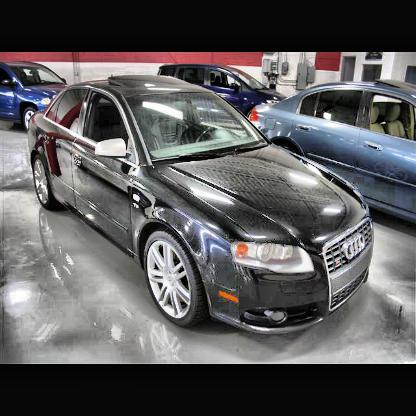Audi S4 Sedan 2007: (33, 76, 368, 338)
